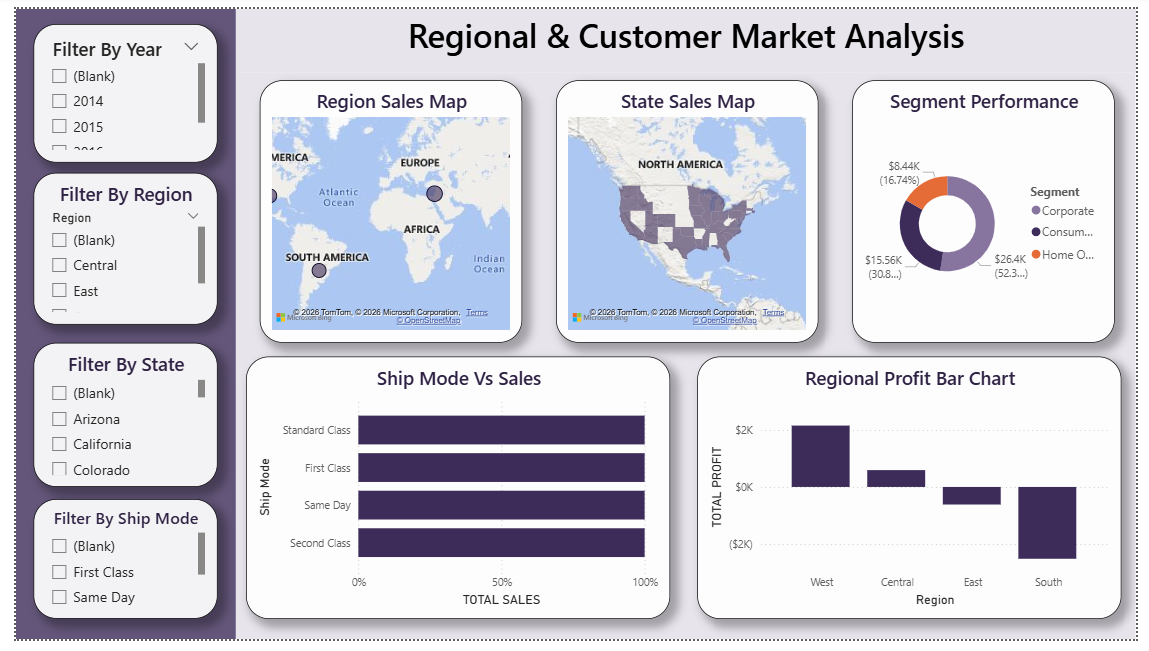

This screenshot's page, from the dashboard's own definition file:
{"tool":"powerbi","page":{"name":"Regional Analysis","canvas":[1280,720],"ordinal":2},"visuals":[{"type":"textbox","box":[0,0,251,720],"z":0},{"type":"textbox","box":[251.7,0,1029,73],"z":1000},{"type":"textbox","box":[252,73,1028,647],"z":2000},{"type":"map","title":"Region Sales Map","fields":{"Category":["superstore sales _hackethon1 (1).Region"],"Size":["superstore sales _hackethon1 (1).TOTAL SALES"]},"box":[279,81.3,300,300],"z":3000},{"type":"filledMap","title":"State Sales Map","fields":{"Category":["superstore sales _hackethon1 (1).State"]},"box":[617.3,81.3,300,300],"z":4000},{"type":"donutChart","title":"Segment Performance","fields":{"Category":["superstore sales _hackethon1 (1).Segment"],"Y":["superstore sales _hackethon1 (1).TOTAL SALES"]},"box":[955.7,81.3,300,300],"z":5000},{"type":"hundredPercentStackedBarChart","title":"Ship Mode Vs Sales","fields":{"Category":["superstore sales _hackethon1 (1).Ship Mode"],"Y":["superstore sales _hackethon1 (1).TOTAL SALES"]},"box":[263.3,396.7,485,300],"z":6000},{"type":"lineClusteredColumnComboChart","title":"Regional Profit Bar Chart","fields":{"Category":["superstore sales _hackethon1 (1).Region"],"Y":["superstore sales _hackethon1 (1).TOTAL PROFIT"]},"box":[778.3,396.7,485,300],"z":7000},{"type":"slicer","fields":{"Values":["superstore sales _hackethon1 (1).Year"]},"box":[20,16.7,210,158.3],"z":8000},{"type":"slicer","title":"Filter By Region","fields":{"Values":["superstore sales _hackethon1 (1).Region"]},"box":[20,186.7,210,173.3],"z":9000},{"type":"slicer","title":"Filter By State ","fields":{"Values":["superstore sales _hackethon1 (1).State"]},"box":[20,381.7,210,165],"z":10000},{"type":"slicer","title":"Filter By Ship Mode","fields":{"Values":["superstore sales _hackethon1 (1).Ship Mode"]},"box":[20,560,210,136.7],"z":11000}]}

Visuals, with their boxes in screenshot pixels (x1, y1, x2, y2), scaled from the page's 1280x720 canvas onto the 1149x651 screenshot:
textbox: bbox=[0, 0, 225, 650]
textbox: bbox=[226, 0, 1148, 66]
textbox: bbox=[226, 66, 1148, 650]
"Region Sales Map" map: bbox=[250, 74, 520, 345]
"State Sales Map" filledMap: bbox=[554, 74, 823, 345]
"Segment Performance" donutChart: bbox=[858, 74, 1127, 345]
"Ship Mode Vs Sales" hundredPercentStackedBarChart: bbox=[236, 359, 672, 630]
"Regional Profit Bar Chart" lineClusteredColumnComboChart: bbox=[699, 359, 1134, 630]
slicer - superstore sales _hackethon1 (1).Year: bbox=[18, 15, 206, 158]
"Filter By Region" slicer: bbox=[18, 169, 206, 326]
"Filter By State " slicer: bbox=[18, 345, 206, 494]
"Filter By Ship Mode" slicer: bbox=[18, 506, 206, 630]
